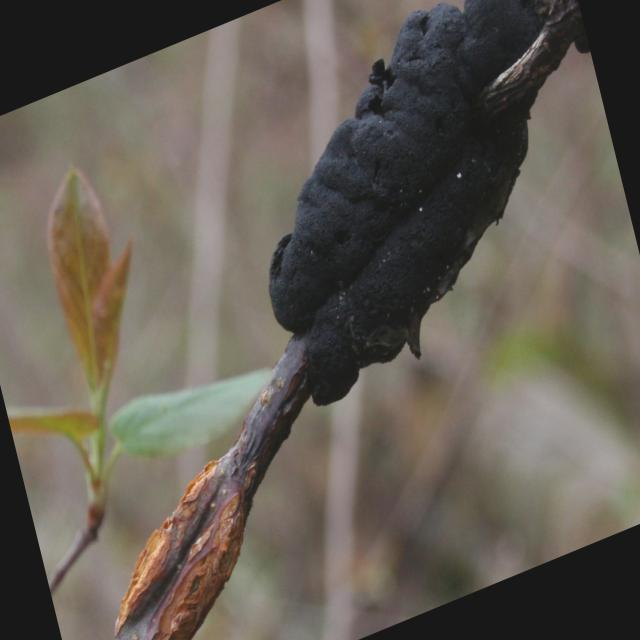Black_knot: (266, 1, 588, 407)
